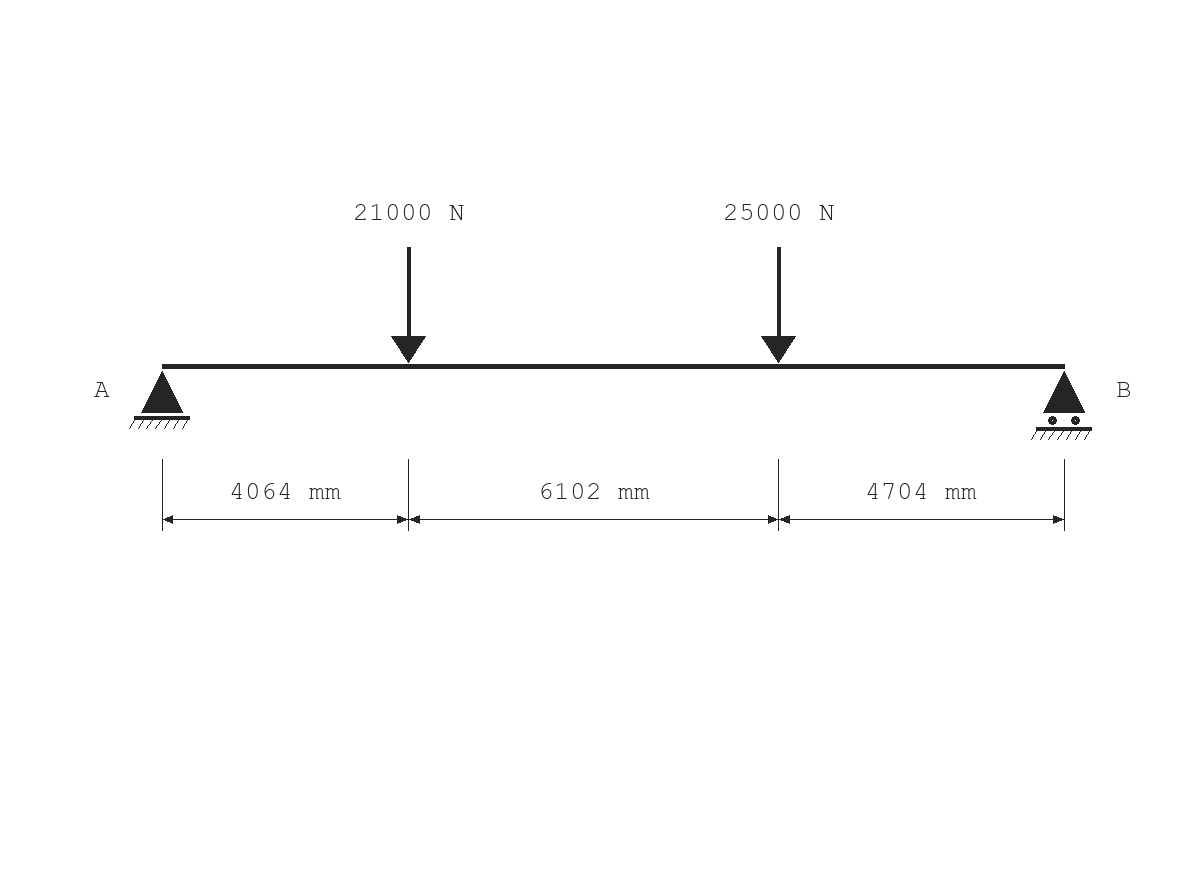pin_support: (129, 371, 190, 429)
point_load: (391, 247, 426, 363), (761, 247, 796, 363)
roller_support: (1031, 371, 1092, 440)
